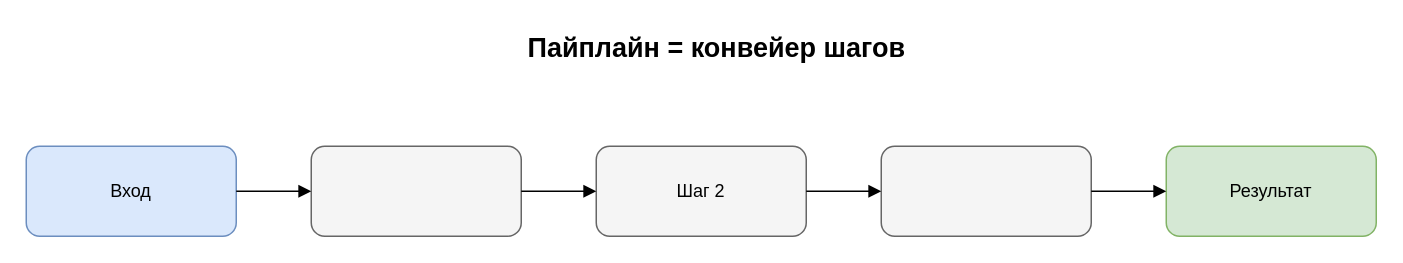
Some shapes in this 1403 by 263 pixel diagram are drawn without their labels. The box of each missing label's shape, as (x1, y1, x2, y2) in pixels:
Шаг 1: (310, 145, 521, 236)
Шаг 3: (880, 145, 1091, 236)
